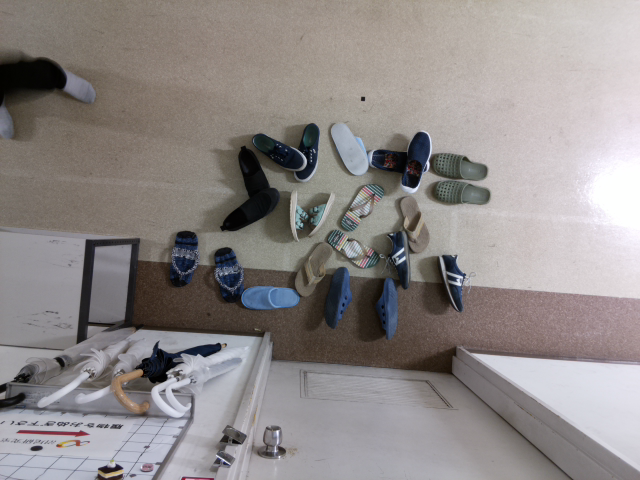Copy of Copy of Copy of Copy of Copy of Copy of Copy of Copy of Copy of Copy of: (214, 184, 284, 239), (325, 114, 371, 178), (235, 143, 278, 199), (371, 272, 405, 342), (324, 263, 358, 333), (399, 188, 433, 258), (397, 128, 433, 194), (379, 227, 412, 297), (305, 185, 339, 240), (284, 185, 309, 243)
Copy of Copy of Copy of Copy of Copy of Copy of Copy of Copy of Copy of shoe: (251, 130, 305, 174), (240, 283, 302, 310)
Copy of Copy of Copy of Copy of Copy of Copy of Copy of Copy of shoe: (325, 227, 382, 271), (290, 118, 322, 183)
Copy of Copy of Copy of Copy of Copy of Copy of Copy of shoe: (337, 178, 387, 229)
Copy of Copy of Copy of Copy of Copy of Copy of shoe: (293, 239, 336, 297)
Copy of Copy of Copy of Copy of Copy of shoe: (213, 244, 250, 307)
Copy of Copy of Copy of Copy of shoe: (164, 225, 200, 288)
Copy of Copy of Copy of shoe: (360, 144, 423, 178)
Copy of Copy of shoe: (429, 150, 492, 184)
Copy of shoe: (430, 176, 493, 211)
shoe: (431, 251, 470, 316)
